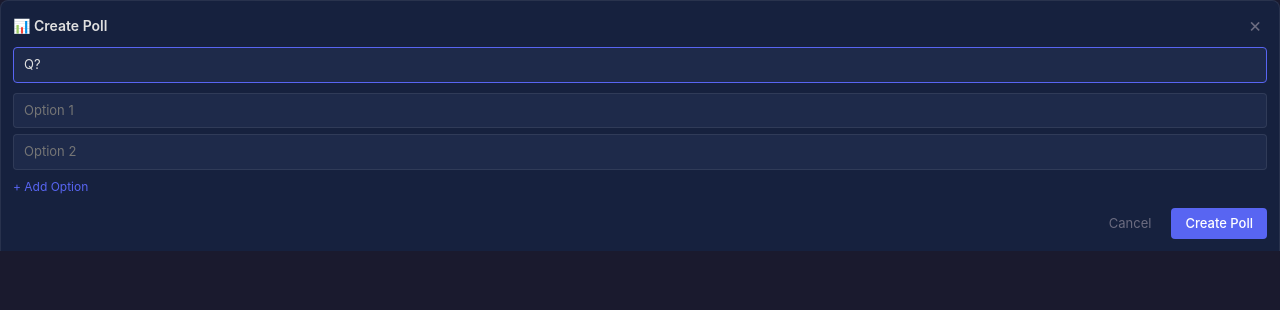
Test case: PollForm › adds and removes options
Check: the number of fields with placeholder "Option 1" is 2, box 13,92 -> 1267,128; 13,134 -> 1267,170
# Add an option
Click the button "+ Add Option" at (51, 186), box 13,176 -> 1267,198
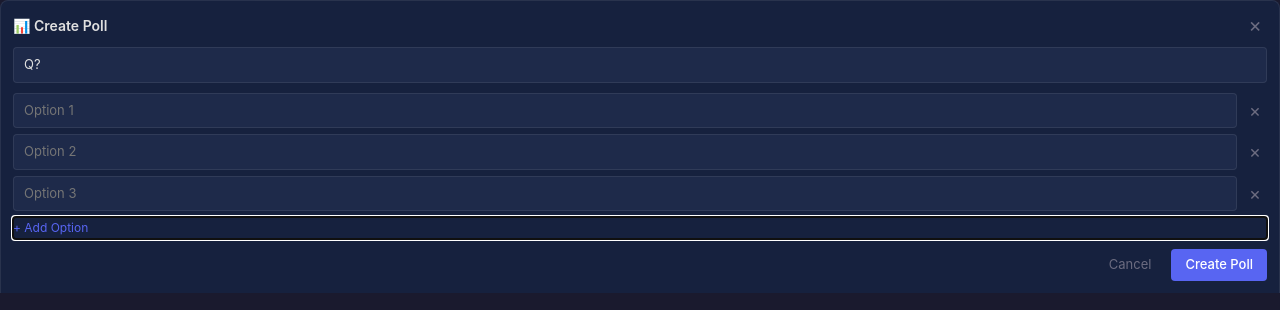
Check: the number of fields with placeholder "Option 1" is 3, box 13,92 -> 1237,128; 13,134 -> 1237,170; 13,176 -> 1237,211
# Remove an option
Click the button named "Remove option 3" at (1255, 193), box 1243,181 -> 1267,205
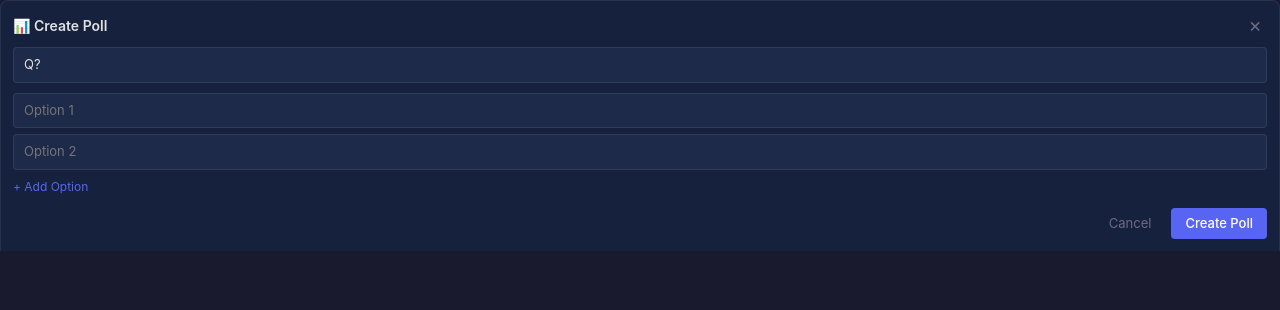
Check: the number of fields with placeholder "Option 1" is 2, box 13,92 -> 1267,128; 13,134 -> 1267,170
